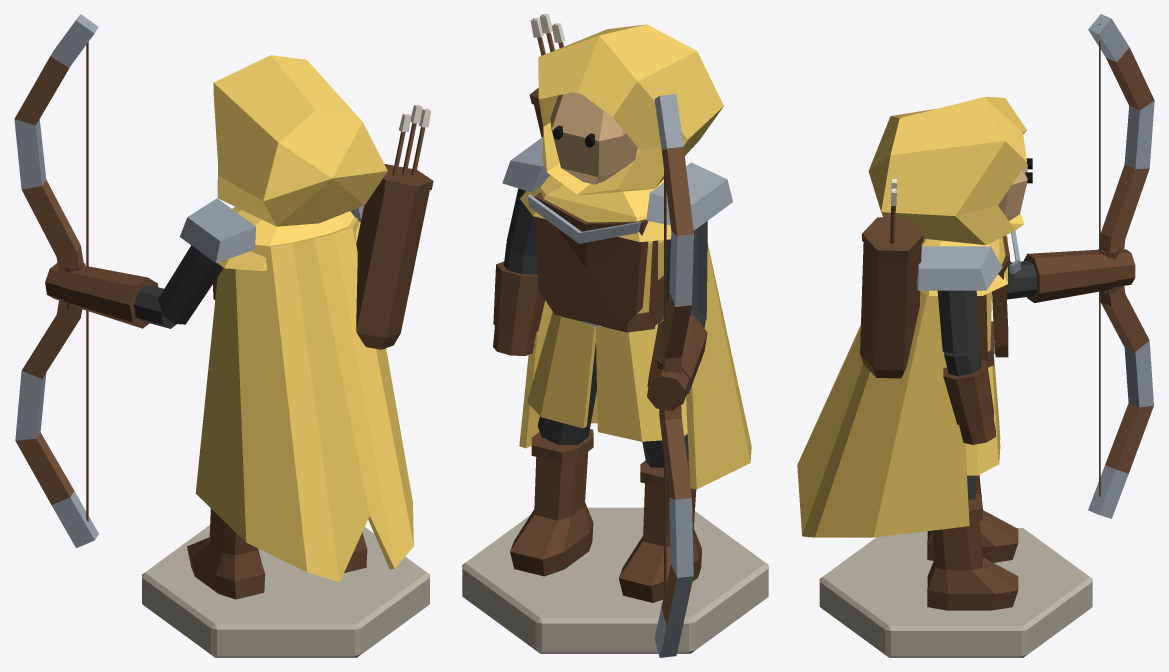
The model's file is human_archer_t6.glb.
3 views of the same model, side by side, from view 1: azimuth 30°, elevation 25°; view 2: azimuth 150°, elevation 25°; view 3: azimuth 270°, elevation 25° (orthographic). The views are drawn at different scales.
Visible parts, largest first — view 1: Archer_Long_Two_Point_Cape, Pointed_Open_Hood_Shell, Foundation_Hexagonal_Stone, Continuous_Recurve_Bow, Single_Right_Back_Quiver, Boot_-1, left_bracer, shoulder_plate_left, left_upper_sleeve, Continuous_Shoulder_Mantle, Taut_Bow_String, left_lower_sleeve (+1 smaller); view 2: Foundation_Hexagonal_Stone, Pointed_Open_Hood_Shell, Continuous_Recurve_Bow, Archer_Long_Two_Point_Cape, leather_jerkin, Boot_1, Angular_Face, Split_Tunic_Front_1, Boot_-1, Split_Tunic_Front_-1, Continuous_Shoulder_Mantle, Continuous_Split_Tunic_Skirt (+18 smaller); view 3: Archer_Long_Two_Point_Cape, Foundation_Hexagonal_Stone, Pointed_Open_Hood_Shell, Continuous_Recurve_Bow, Single_Right_Back_Quiver, Boot_1, left_bracer, shoulder_plate_right, right_upper_sleeve, right_bracer, Quiver_Mouth_Band, Boot_-1 (+10 smaller).
Boxes of the visible parts, x1,y1,x2,y2 form: Archer_Long_Two_Point_Cape: (195,217,413,582); Pointed_Open_Hood_Shell: (213,55,387,226); Foundation_Hexagonal_Stone: (142,525,429,657); Continuous_Recurve_Bow: (14,14,98,548); Single_Right_Back_Quiver: (356,168,430,349); Boot_-1: (187,508,265,599); left_bracer: (61,265,158,328); shoulder_plate_left: (180,198,255,262); left_upper_sleeve: (158,245,223,324); Continuous_Shoulder_Mantle: (217,207,360,271); Taut_Bow_String: (86,23,88,522); left_lower_sleeve: (134,284,176,328); Foundation_Hexagonal_Stone: (462,507,768,653); Pointed_Open_Hood_Shell: (538,24,723,194); Continuous_Recurve_Bow: (654,94,693,657); Archer_Long_Two_Point_Cape: (519,243,751,489); leather_jerkin: (534,192,648,329); Boot_1: (510,451,593,576); Angular_Face: (550,91,637,184); Split_Tunic_Front_1: (540,316,595,428); Boot_-1: (619,483,701,602); Split_Tunic_Front_-1: (595,326,642,441); Continuous_Shoulder_Mantle: (520,175,671,242); Continuous_Split_Tunic_Skirt: (527,312,687,441); Archer_Long_Two_Point_Cape: (797,292,969,537); Foundation_Hexagonal_Stone: (819,528,1092,657); Pointed_Open_Hood_Shell: (868,97,1026,244); Continuous_Recurve_Bow: (1088,14,1154,518); Single_Right_Back_Quiver: (860,218,921,378); Boot_1: (927,518,1018,610); left_bracer: (1023,249,1116,302); shoulder_plate_right: (916,246,1002,290); right_upper_sleeve: (937,290,978,353); right_bracer: (943,359,993,426); Quiver_Mouth_Band: (862,217,923,257); Boot_-1: (927,475,1018,562).
Size of the model in its own units: 1.06 by 2 by 1.21.
